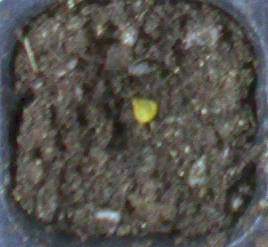chilli seed: (130, 97, 158, 124)
